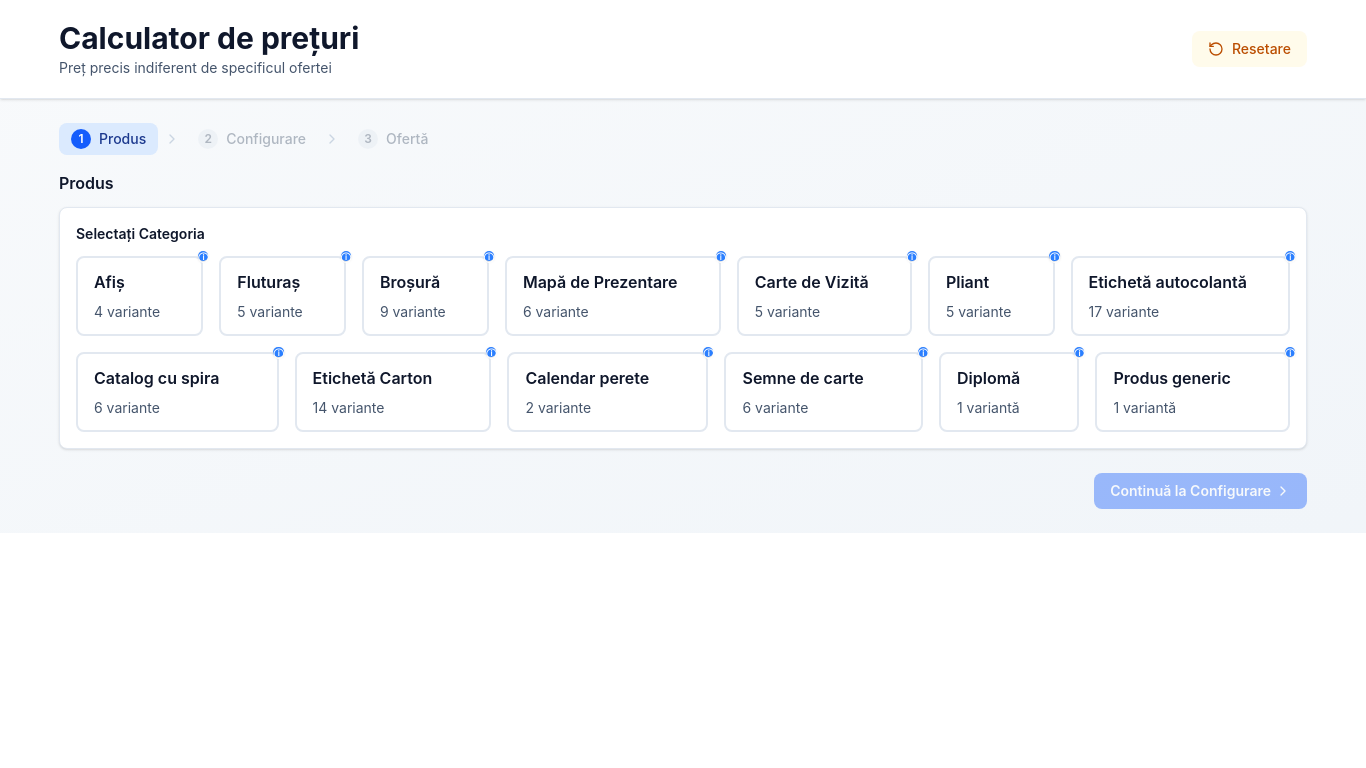
Test case: ProductConfigurator › flow › drills into a category and back out
The width and height of the screenshot is (1366, 768).
Click the text "Fluturaș" at [269, 282], box 237,272 -> 300,292
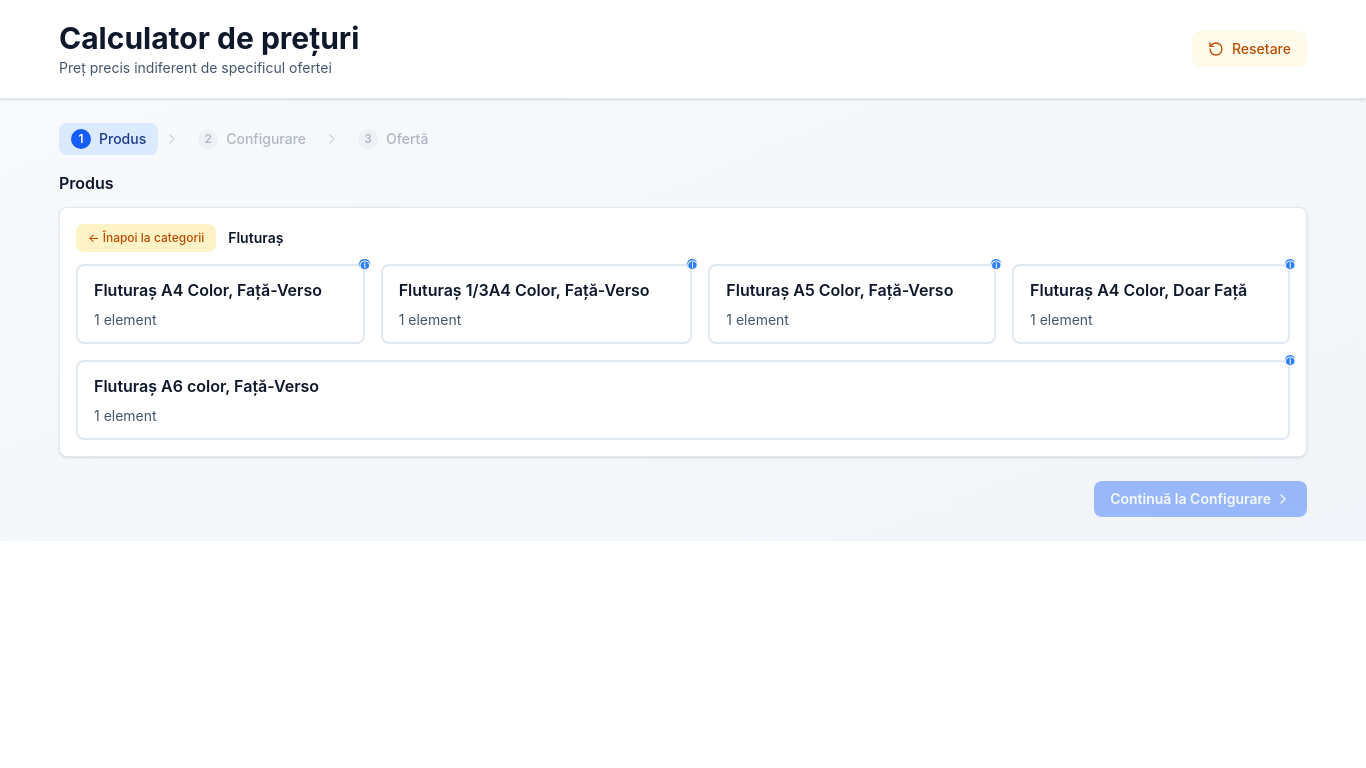
Now the text "Fluturaș A4 Color, Față-Verso" is shown, box 94,278 -> 347,302
Now the heading "Selectați Categoria" is gone
Click the button "← Înapoi la categorii" at [146, 238], box 76,224 -> 216,252
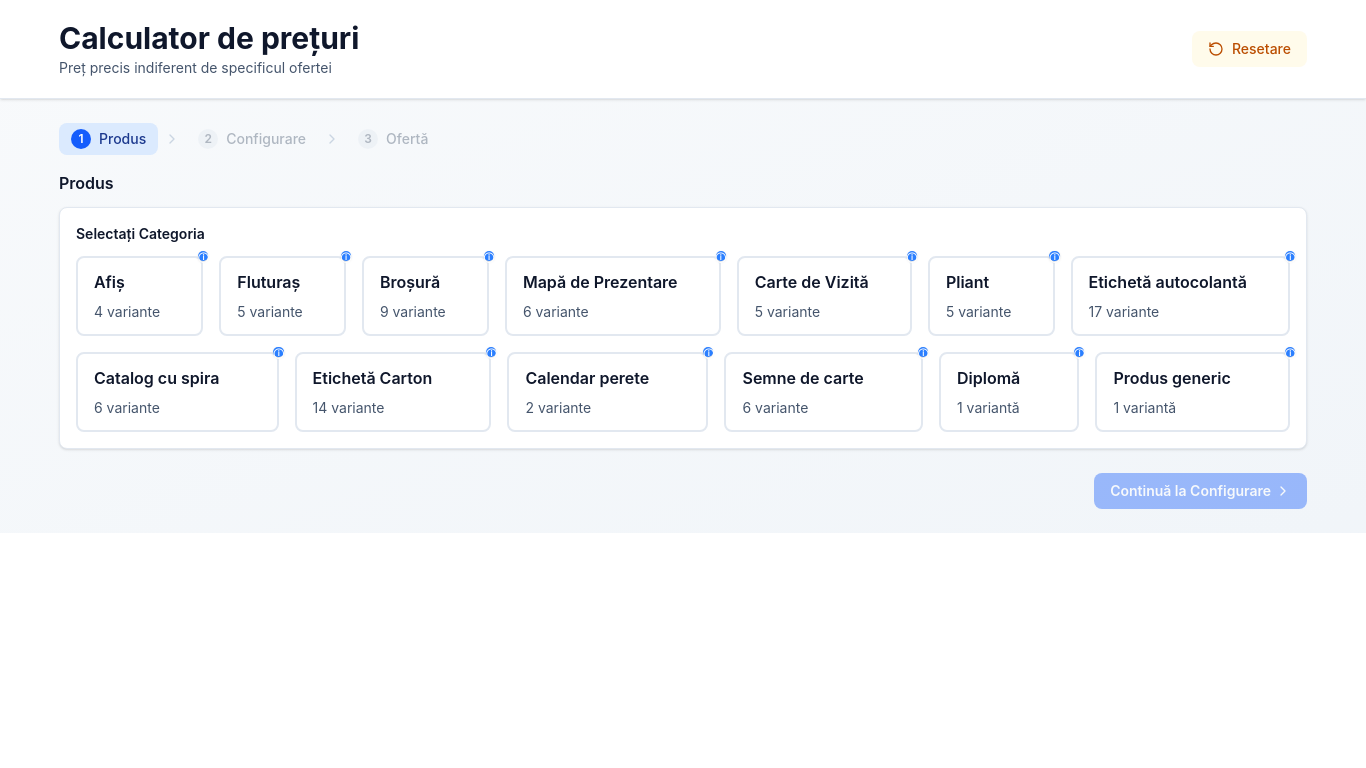
Now the heading "Selectați Categoria" is shown, box 76,225 -> 205,242
